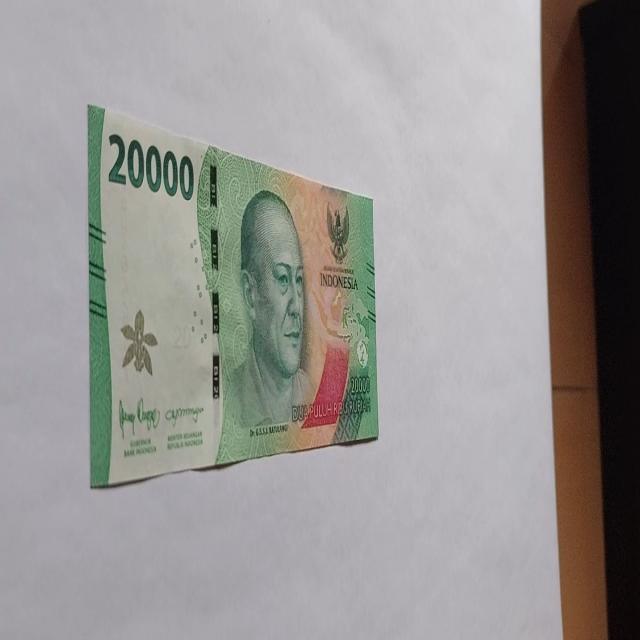dua puluh ribu rupiah: (86, 102, 379, 488), (212, 187, 350, 465)
